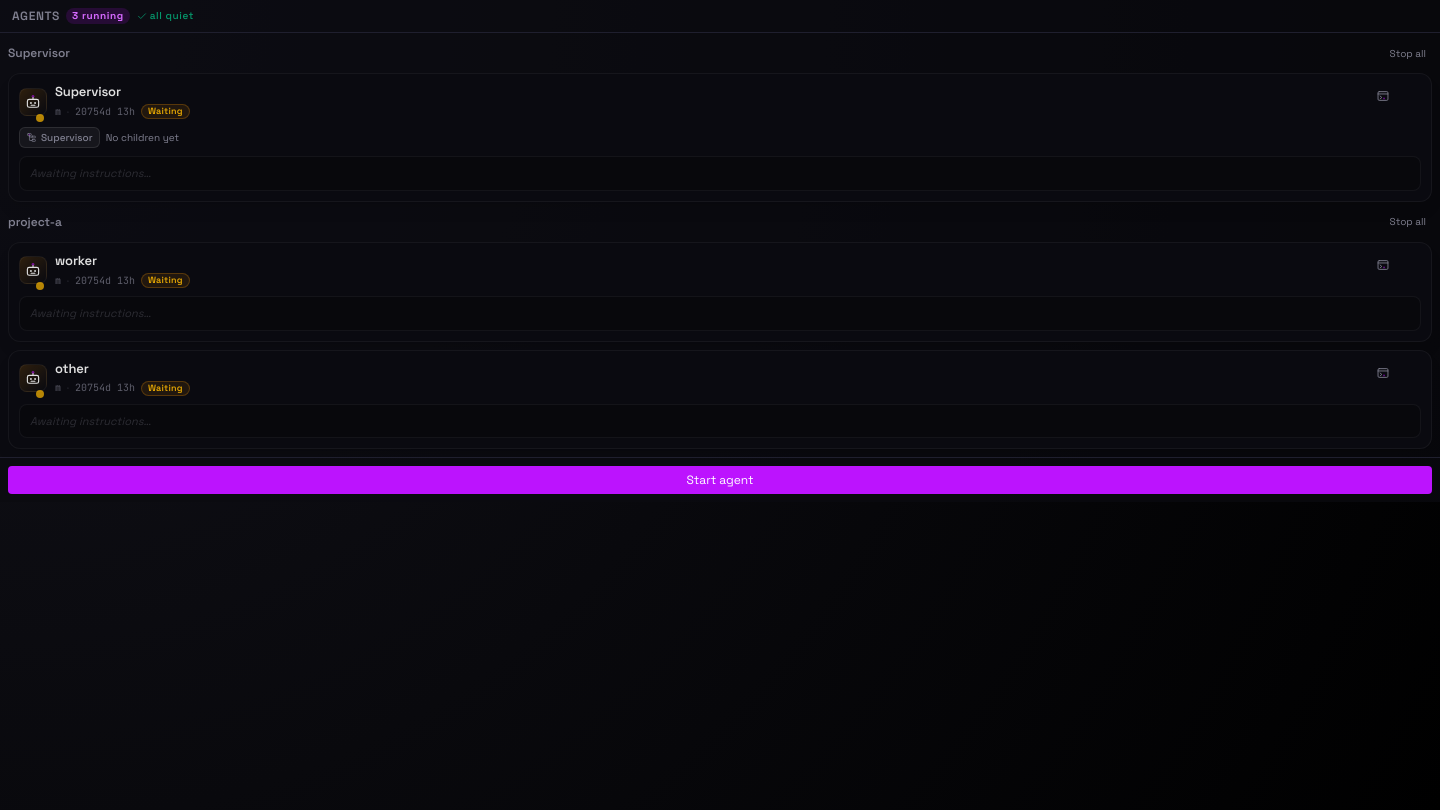
Test: AgentsPanel — supervisors › does not count the supervisor in its folder's Stop all
Click the button with aria-label "Stop all agents in project-a" at (1408, 222), box [1384,210,1432,234]
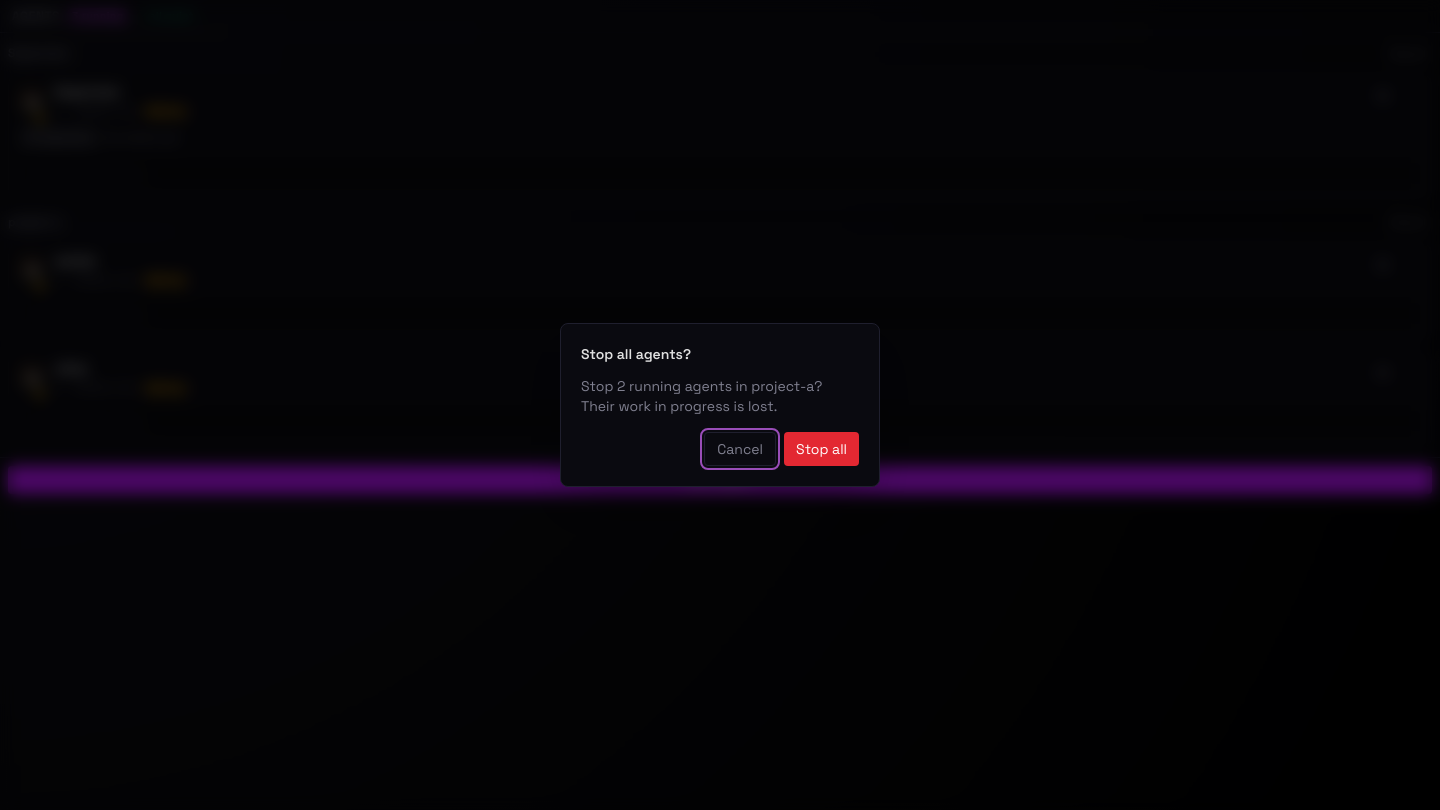
Expected: the dialog shows "Stop 2 running agents in project-a?", [581,377,822,415]
